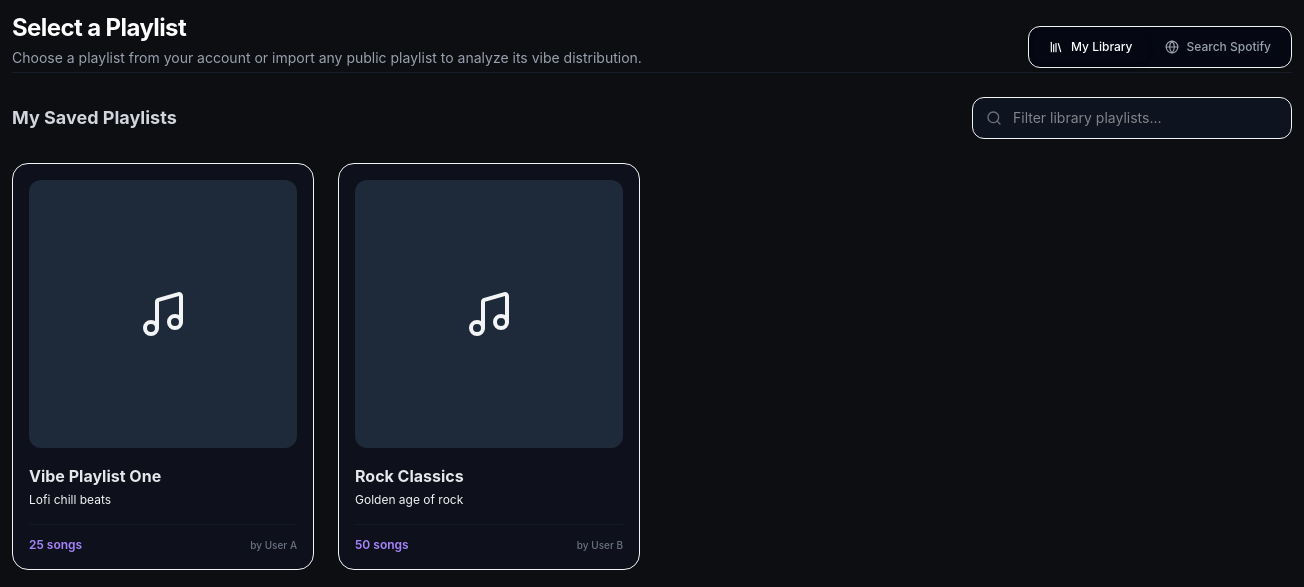
Test: PlaylistGrid Component › should filter playlists locally when searching in the library
Type "Rock" into the field with placeholder "Filter library playlists...".
click(1132, 118); type("Rock")  # box [972, 97, 1292, 139]
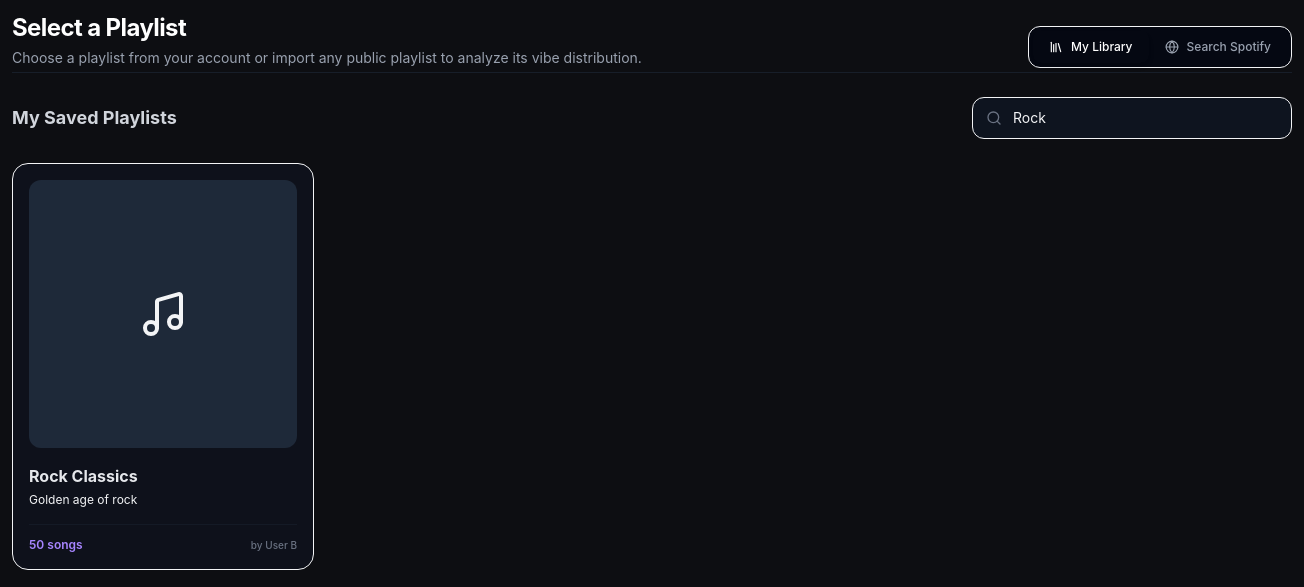
Check: the heading "Rock Classics" is shown, box [29, 466, 138, 486]
Check: the heading "Vibe Playlist One" is gone
